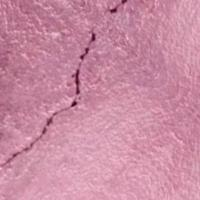crack: (2, 0, 132, 171)
